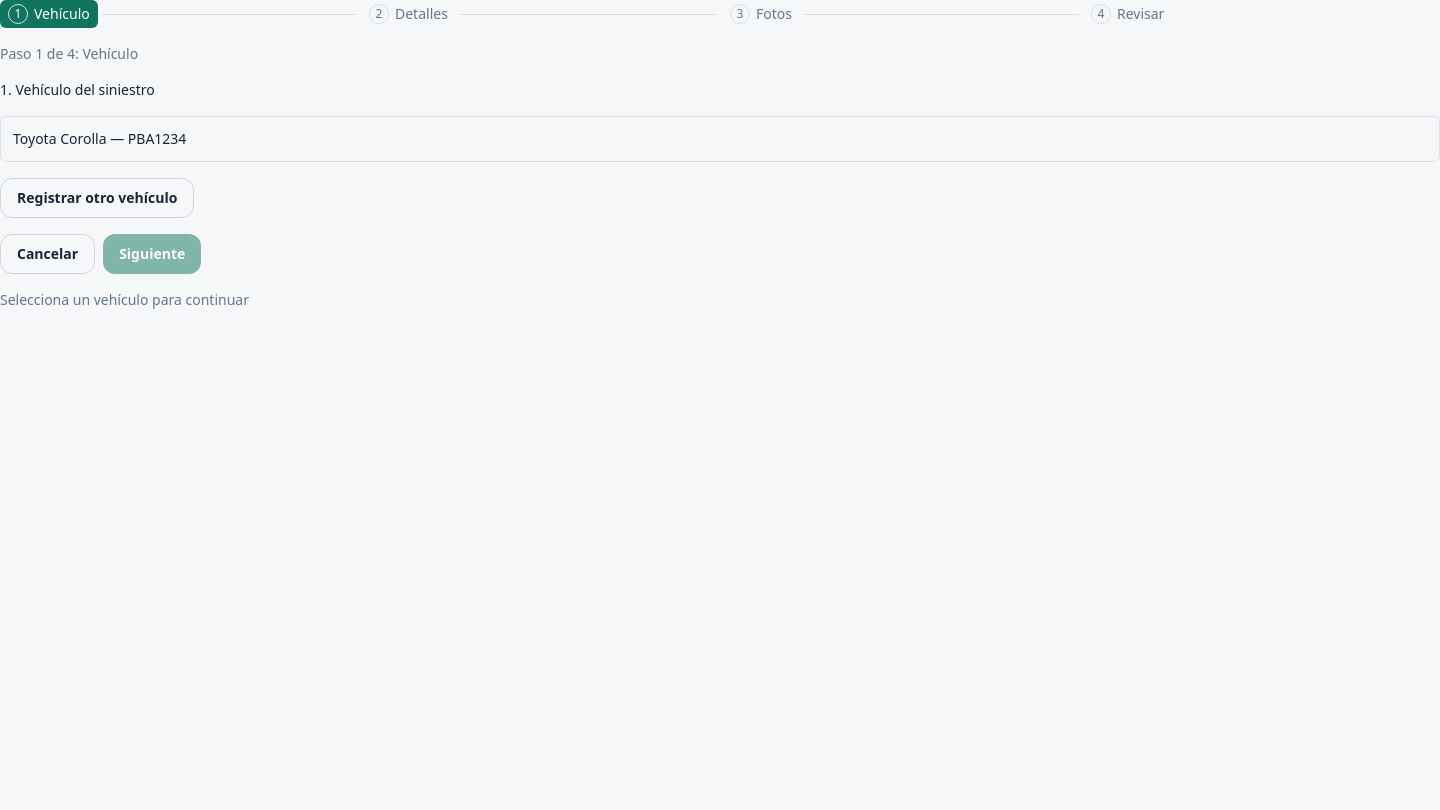
Test case: NewClaimWizard › pide confirmación al cancelar con datos ingresados
What coordinates should you click on to do the following:
click the button "Toyota Corolla — PBA1234"
I would click on:
 (35, 138)
Its box is [0,116,1439,162].
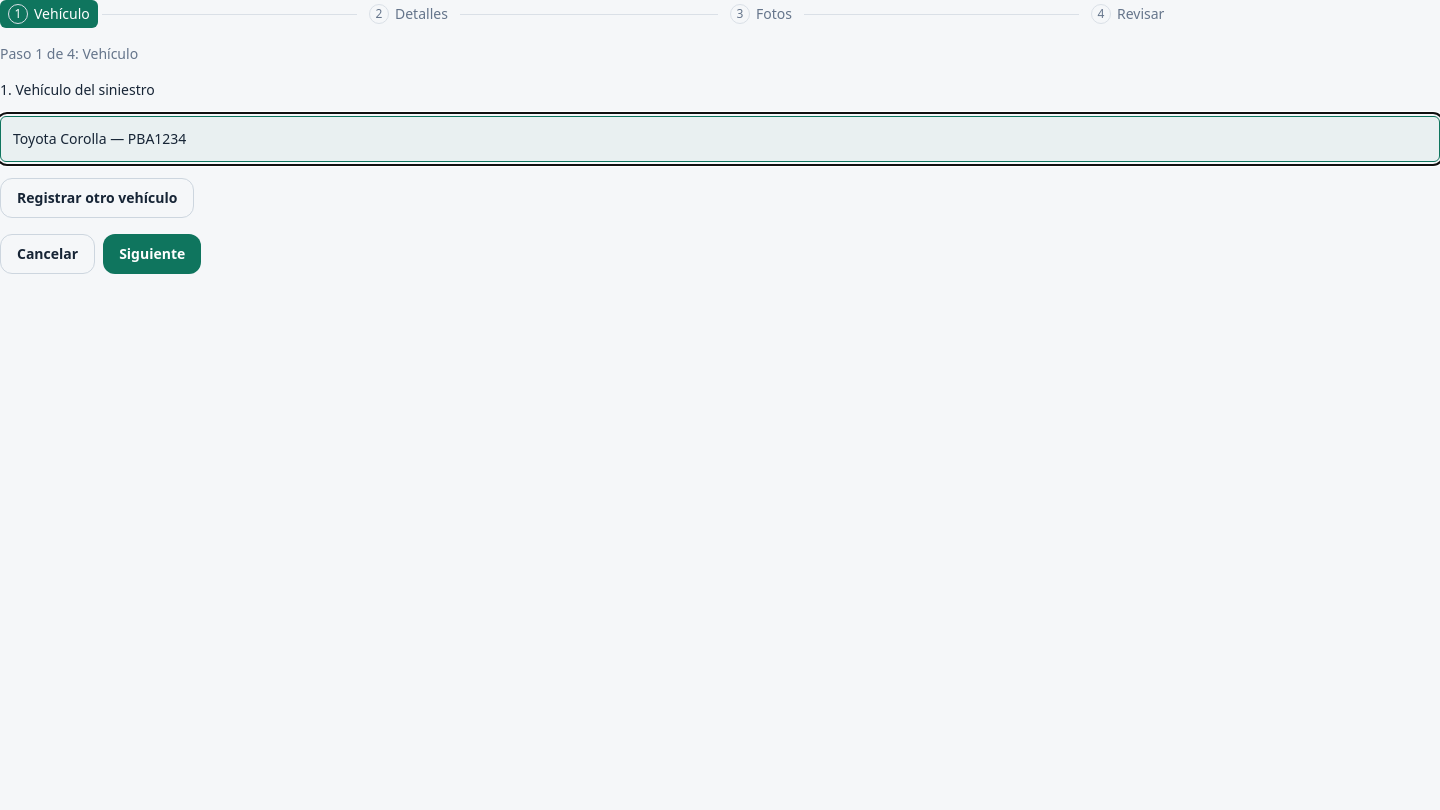
What coordinates should you click on to do the following:
click the button "Cancelar"
I would click on:
 (48, 254)
Its box is [0,234,95,274].
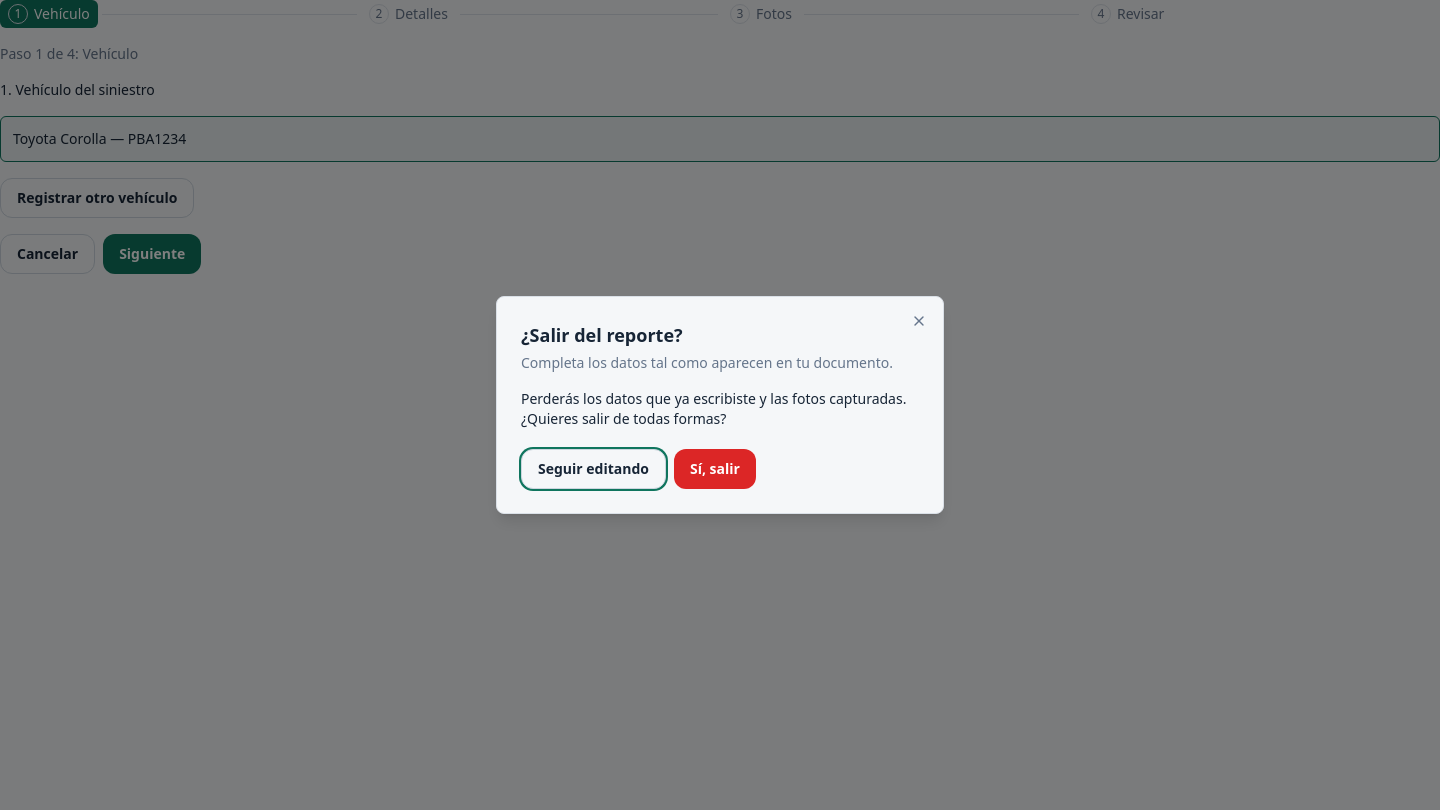
Result: the dialog shows "¿Salir del reporte?" at [521,323,683,347]
What coordinates should you click on to do the following:
click the button "Seguir editando"
I would click on:
 (594, 469)
Its box is [521,449,666,489].
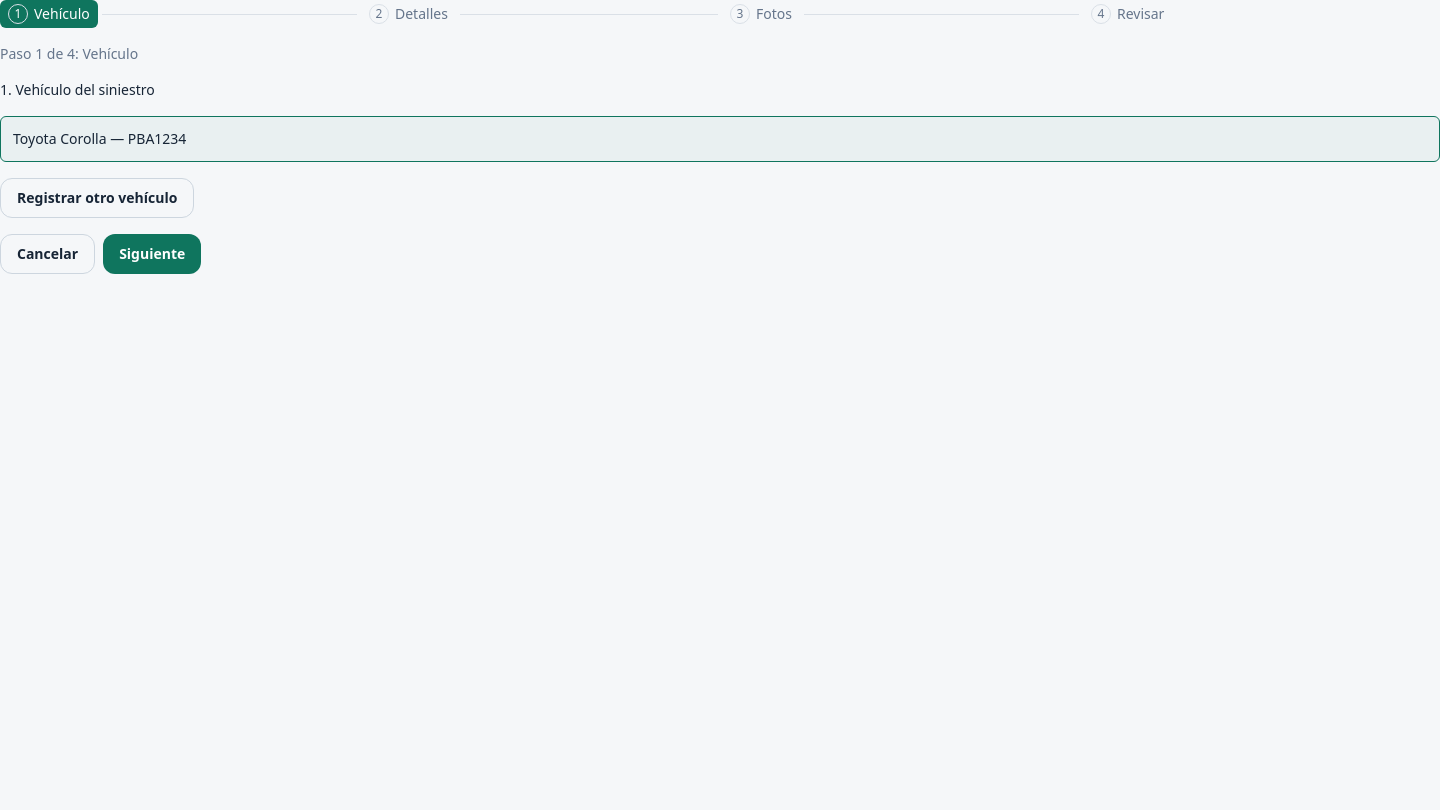
Result: the dialog is gone
